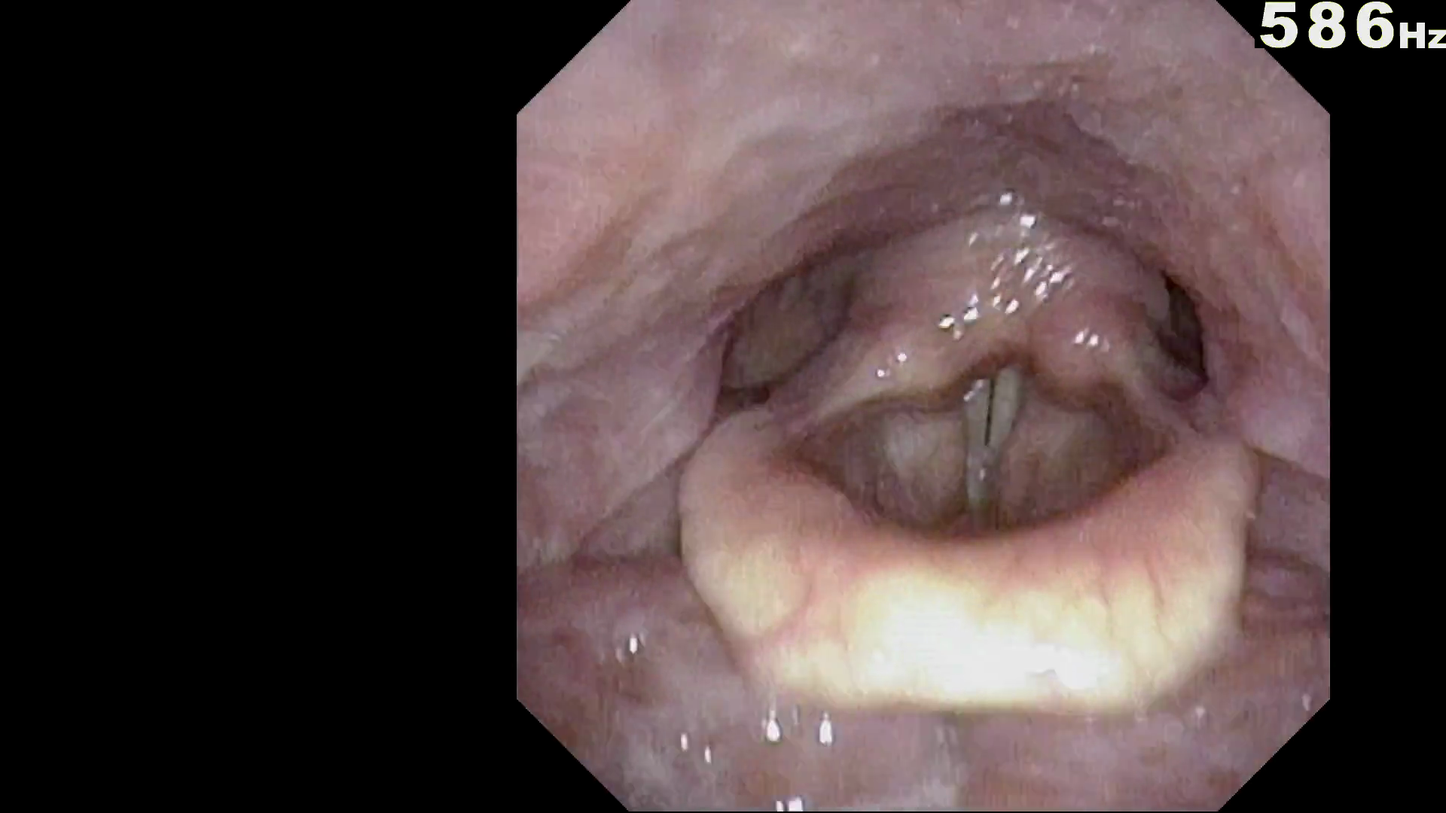epiglottis: (725, 398, 1215, 582)
